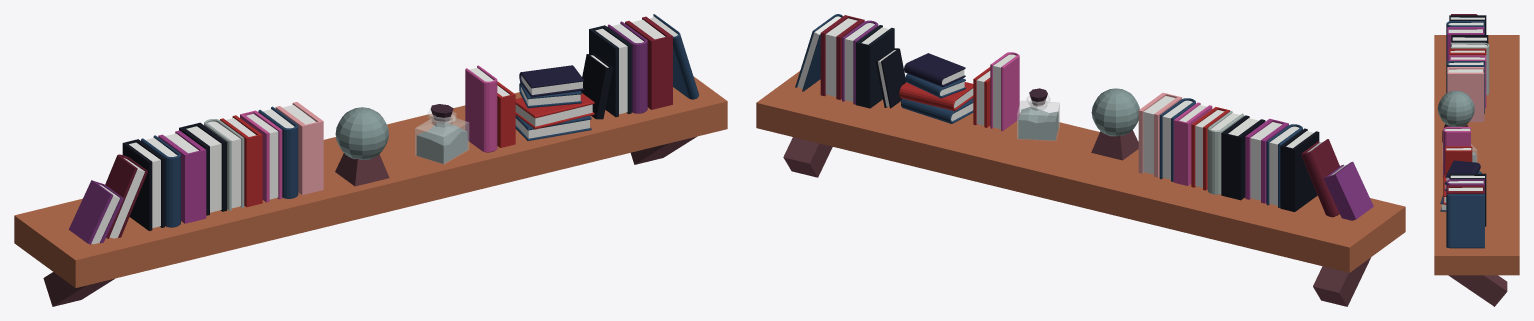
File: Estante-livros 1.fbx
3 views of the same model, side by side, from view 1: azimuth 30°, elevation 25°; view 2: azimuth 150°, elevation 25°; view 3: azimuth 270°, elevation 25° (orthographic). The views are drawn at different scales.
Visible parts, largest first — view 1: Cube.115, Cube.110, Cylinder, PoçaoQuadrada.003, Cube.066, Cube.108, Cube.068, Cube.094, Cube.065, Cube.109, Cube.077, Cube.074 (+13 smaller); view 2: Cube.115, Cube.110, Cube.108, Cube.066, Cylinder, Cube.077, PoçaoQuadrada.003, Cube.068, Cube.065, Cube.094, Cube.109, Cube.074 (+13 smaller); view 3: Cube.115, Cylinder.016, Cube.068, Cube.110, Cylinder, Cube.063, Cylinder.023, Cylinder.020, Cube.094, Cube.066, Cube.065, Cylinder.022 (+8 smaller).
Part boxes in pixels (<box>): Cube.115: <box>14,76,727,306</box>; Cube.110: <box>335,107,389,186</box>; Cylinder: <box>465,65,497,152</box>; PoçaoQuadrada.003: <box>415,104,469,164</box>; Cube.066: <box>589,25,631,117</box>; Cube.108: <box>122,139,164,230</box>; Cube.068: <box>275,102,323,194</box>; Cube.094: <box>158,130,206,223</box>; Cube.065: <box>625,16,672,109</box>; Cube.109: <box>69,180,123,244</box>; Cube.077: <box>179,122,226,215</box>; Cube.074: <box>240,110,282,202</box>; Cube.115: <box>756,71,1405,306</box>; Cube.110: <box>1091,88,1139,160</box>; Cube.108: <box>1280,128,1319,211</box>; Cube.066: <box>855,25,894,108</box>; Cylinder: <box>990,52,1019,131</box>; Cube.077: <box>1221,115,1265,200</box>; PoçaoQuadrada.003: <box>1017,88,1059,140</box>; Cube.068: <box>1138,92,1182,177</box>; Cube.065: <box>820,15,864,99</box>; Cube.094: <box>1245,118,1288,203</box>; Cube.109: <box>1323,161,1373,220</box>; Cube.074: <box>1173,102,1212,185</box>; Cube.115: <box>1434,35,1519,306</box>; Cylinder.016: <box>1446,194,1484,248</box>; Cube.068: <box>1447,67,1484,121</box>; Cube.110: <box>1437,90,1474,142</box>; Cylinder: <box>1443,127,1470,177</box>; Cube.063: <box>1445,146,1472,175</box>; Cylinder.023: <box>1450,42,1489,95</box>; Cylinder.020: <box>1445,160,1480,183</box>; Cube.094: <box>1447,27,1484,61</box>; Cube.066: <box>1449,173,1486,226</box>; Cube.065: <box>1447,185,1484,194</box>; Cylinder.022: <box>1446,61,1484,113</box>.
Size of the model in its own units: 3.53 by 0.7975 by 0.5757.
